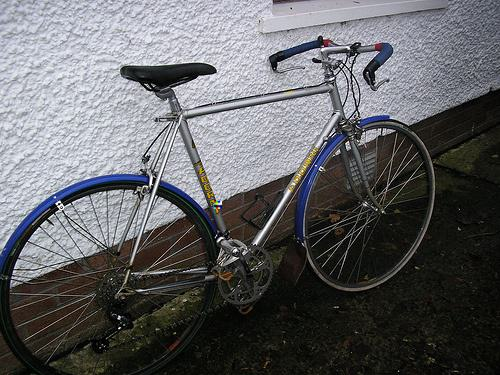car: (1, 36, 436, 375)
